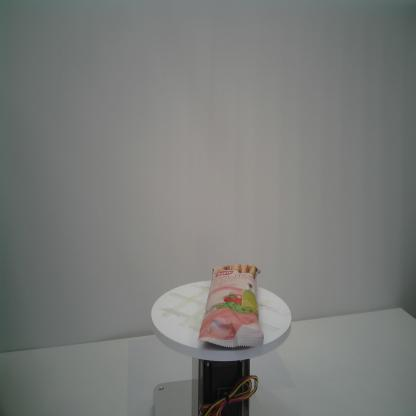Dessert: (198, 263, 266, 354)
